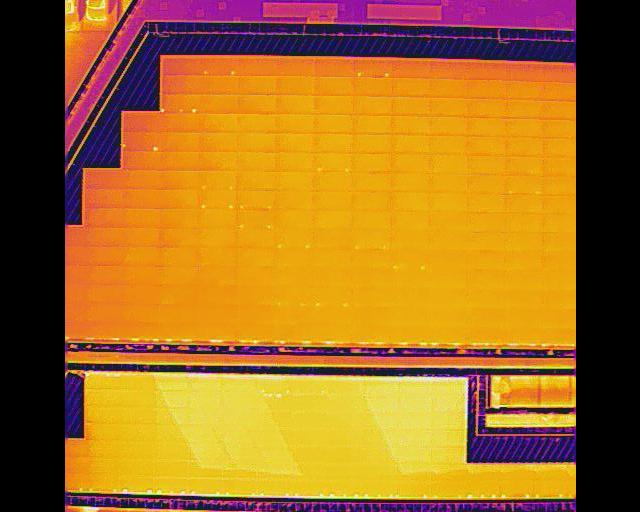Cell-Multi: (503, 175, 544, 196), (389, 249, 428, 270), (313, 153, 353, 173), (351, 229, 389, 250), (275, 229, 313, 250), (121, 133, 160, 153), (235, 210, 274, 230), (313, 289, 353, 308), (235, 191, 275, 210), (161, 94, 200, 113), (198, 191, 237, 210), (354, 59, 392, 78), (198, 171, 236, 190), (199, 58, 238, 76)
No-Anomaly: (503, 137, 544, 158), (311, 250, 352, 271), (388, 269, 428, 290), (467, 99, 508, 119), (235, 285, 276, 305), (234, 229, 275, 249), (157, 284, 196, 305), (506, 80, 545, 101), (465, 251, 504, 272), (313, 229, 352, 250), (236, 171, 275, 192), (121, 301, 158, 323), (159, 209, 199, 229), (122, 113, 162, 133), (505, 118, 545, 138), (466, 155, 506, 175), (465, 213, 505, 233), (350, 174, 390, 194), (313, 115, 353, 135), (236, 94, 276, 114), (197, 285, 235, 306), (121, 170, 159, 191), (83, 301, 121, 322), (466, 193, 504, 214), (121, 282, 157, 304), (429, 98, 468, 118), (428, 155, 467, 175), (428, 308, 467, 328), (390, 154, 429, 174), (352, 96, 391, 116), (160, 151, 199, 171), (159, 171, 198, 191), (120, 209, 159, 229), (119, 247, 158, 267), (504, 214, 543, 234), (504, 195, 543, 215), (503, 271, 542, 291), (503, 252, 542, 272), (467, 79, 506, 99), (351, 192, 390, 212), (313, 172, 352, 192), (275, 114, 314, 134), (274, 172, 313, 192), (274, 153, 313, 173), (197, 113, 236, 133), (389, 211, 430, 230), (234, 249, 275, 268), (197, 133, 238, 152), (428, 250, 465, 271), (352, 250, 389, 271), (429, 270, 467, 290), (428, 212, 466, 232), (391, 96, 429, 116), (390, 193, 430, 212), (388, 288, 428, 307), (353, 115, 391, 135), (160, 132, 198, 152), (159, 190, 199, 209), (158, 248, 198, 267), (504, 156, 542, 176), (504, 290, 542, 310), (467, 136, 505, 156), (466, 175, 506, 194), (466, 271, 504, 291), (465, 232, 505, 251), (313, 77, 353, 96), (312, 269, 352, 288), (237, 133, 275, 153), (236, 266, 274, 286), (199, 75, 237, 95), (199, 94, 237, 114), (428, 136, 467, 155), (390, 135, 429, 154), (390, 174, 429, 193), (389, 230, 428, 249), (352, 154, 391, 173), (120, 190, 159, 209), (120, 228, 159, 247), (504, 310, 543, 329), (466, 117, 505, 136), (314, 96, 353, 115), (274, 210, 313, 229), (274, 191, 313, 210), (236, 114, 275, 133), (430, 79, 467, 99), (429, 193, 466, 213), (120, 265, 157, 285), (84, 209, 121, 229), (387, 307, 428, 325), (430, 60, 468, 79), (429, 117, 467, 136), (429, 175, 467, 194), (392, 60, 430, 79), (392, 78, 430, 97), (391, 117, 429, 136), (353, 78, 391, 97), (353, 135, 391, 154), (162, 75, 200, 94), (160, 113, 198, 132), (507, 99, 545, 118), (506, 62, 544, 81), (503, 233, 541, 252), (466, 310, 504, 329), (276, 96, 314, 115), (275, 77, 313, 96), (237, 76, 275, 95), (198, 152, 236, 171), (198, 210, 236, 229), (197, 266, 235, 285), (158, 229, 198, 247), (84, 171, 120, 191), (313, 135, 353, 153), (312, 324, 352, 342), (428, 231, 465, 250), (196, 248, 233, 267), (467, 290, 504, 309), (314, 192, 351, 211), (275, 249, 312, 268), (429, 290, 468, 308), (389, 324, 428, 342), (157, 304, 196, 322), (468, 62, 507, 80), (351, 211, 390, 229), (313, 307, 352, 325), (276, 58, 315, 76), (237, 322, 276, 340), (543, 175, 576, 196), (197, 304, 235, 322), (159, 321, 197, 339), (84, 228, 120, 247), (83, 247, 119, 266), (84, 320, 120, 339), (353, 271, 389, 290), (314, 211, 352, 229), (275, 135, 313, 153), (542, 233, 576, 253), (313, 60, 353, 77), (278, 286, 312, 306), (236, 305, 276, 322), (83, 266, 120, 284), (237, 153, 274, 171), (199, 229, 236, 247), (122, 319, 157, 338), (353, 307, 388, 326), (157, 267, 196, 284), (121, 152, 160, 169), (82, 285, 121, 302), (238, 59, 277, 76), (543, 195, 576, 215), (85, 190, 121, 208), (542, 272, 576, 291), (354, 289, 388, 308), (162, 58, 200, 75), (197, 322, 235, 339), (543, 119, 576, 138), (543, 214, 576, 233), (543, 310, 576, 329), (542, 291, 576, 309), (542, 253, 576, 271), (278, 323, 312, 341), (277, 306, 311, 324), (275, 269, 311, 286), (544, 82, 576, 101), (544, 138, 576, 157), (504, 328, 542, 344), (543, 157, 576, 175), (427, 328, 466, 343), (544, 64, 576, 82), (544, 101, 576, 119), (352, 326, 388, 342), (543, 328, 576, 345), (468, 329, 503, 343)
